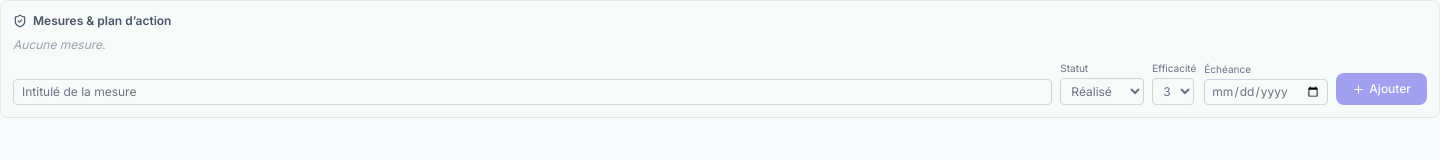
Test: RiskMesures › ajoute une mesure (POST) puis recharge
The image size is (1440, 160).
Expected: the text "Aucune mesure." is shown, [13, 37, 106, 52]
In the field with placeholder "Intitulé de la mesure": (533, 92) [13, 79, 1052, 105], type "Sauvegardes"
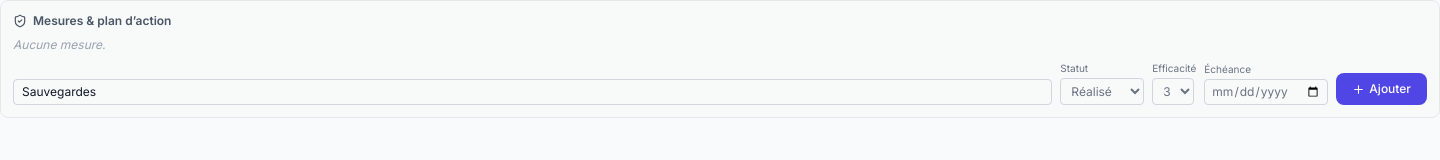
Click the button "Ajouter": (1382, 89) [1336, 73, 1427, 105]
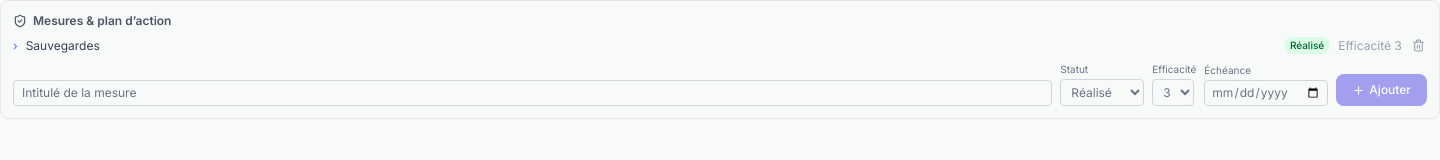
Now the text "Sauvegardes" is shown, box [26, 38, 100, 53]
